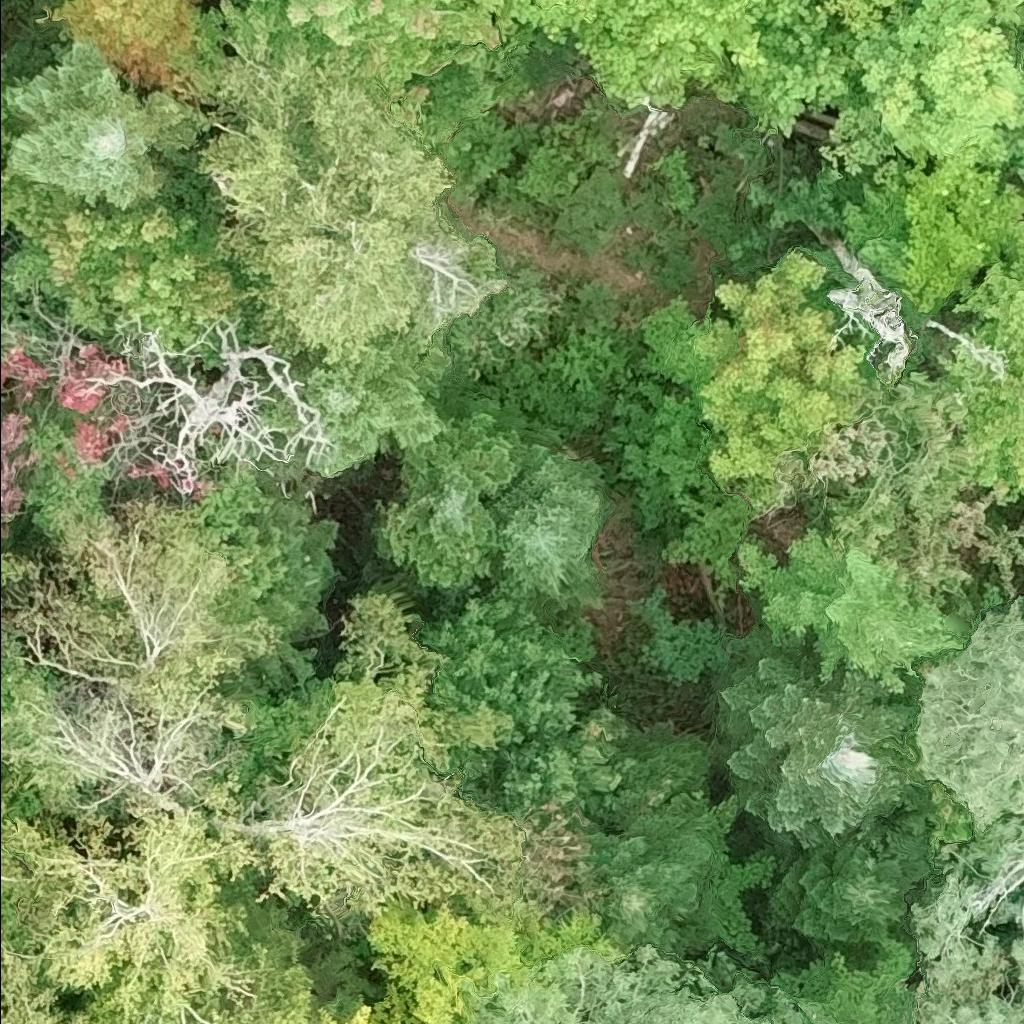crown: (255, 591, 569, 934), (197, 31, 511, 362), (3, 804, 310, 1023), (2, 499, 272, 736), (774, 371, 1023, 622), (220, 0, 511, 192), (0, 635, 267, 833), (422, 594, 629, 846), (0, 167, 249, 366), (722, 624, 910, 867), (911, 596, 1023, 999), (702, 253, 886, 482), (818, 0, 1023, 192), (735, 529, 970, 694), (491, 0, 813, 114), (368, 900, 633, 1023), (377, 411, 556, 587), (843, 148, 1023, 323), (8, 44, 193, 204), (463, 947, 851, 1023), (770, 782, 942, 944), (940, 242, 1023, 503), (593, 795, 718, 958), (497, 453, 612, 621), (727, 0, 863, 140), (0, 777, 75, 952), (827, 243, 916, 377), (517, 800, 603, 916), (0, 938, 62, 1023), (0, 54, 41, 174), (614, 105, 677, 176), (914, 982, 1023, 1023), (303, 992, 406, 1023), (0, 550, 14, 665), (523, 0, 604, 17), (990, 0, 1023, 17), (1015, 945, 1023, 985), (478, 0, 501, 11), (0, 760, 8, 782)
